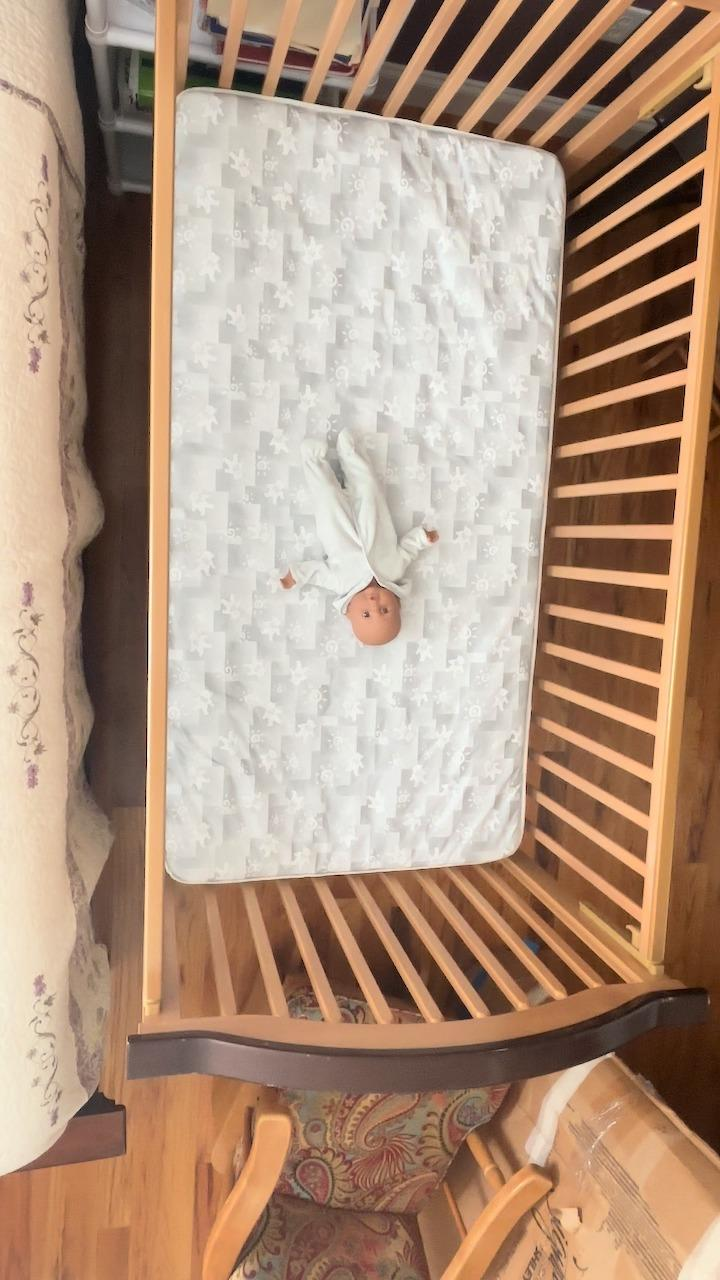baby: (272, 412, 444, 649)
